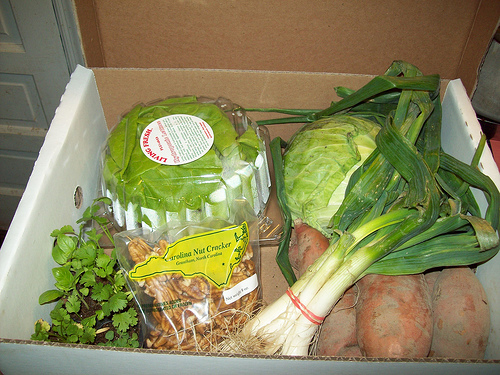cabbage: (280, 110, 386, 238)
